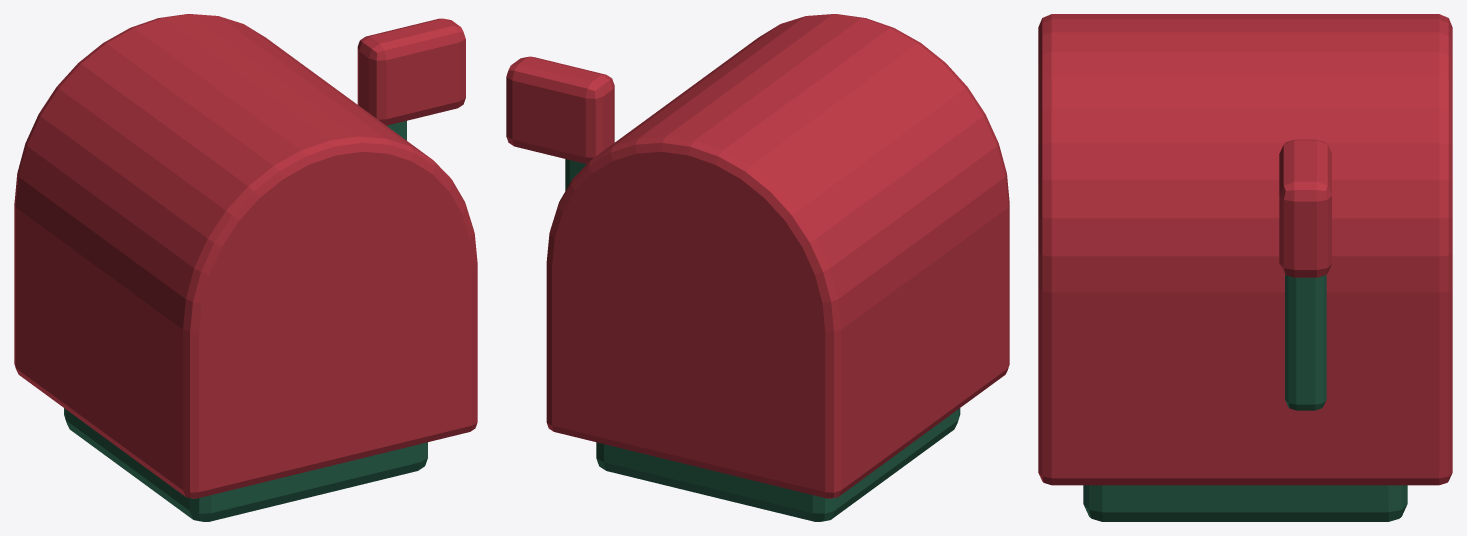
The model's file is ACC_TH_POST_OFFICE_Primary.fbx.
The picture shows the model from 3 angles, left to right: view 1: azimuth 30°, elevation 25°; view 2: azimuth 150°, elevation 25°; view 3: azimuth 270°, elevation 25°; orthographic projection. The views are drawn at different scales.
Parts seen in each view (by area): view 1: ACC_TH_POST_OFFICE_Primary; view 2: ACC_TH_POST_OFFICE_Primary; view 3: ACC_TH_POST_OFFICE_Primary.
Part boxes in pixels (<box>): ACC_TH_POST_OFFICE_Primary: <box>14,14,477,521</box>; ACC_TH_POST_OFFICE_Primary: <box>506,14,1009,521</box>; ACC_TH_POST_OFFICE_Primary: <box>1038,14,1452,521</box>.
Size of the model in its own units: 68.5 by 63 by 55.
